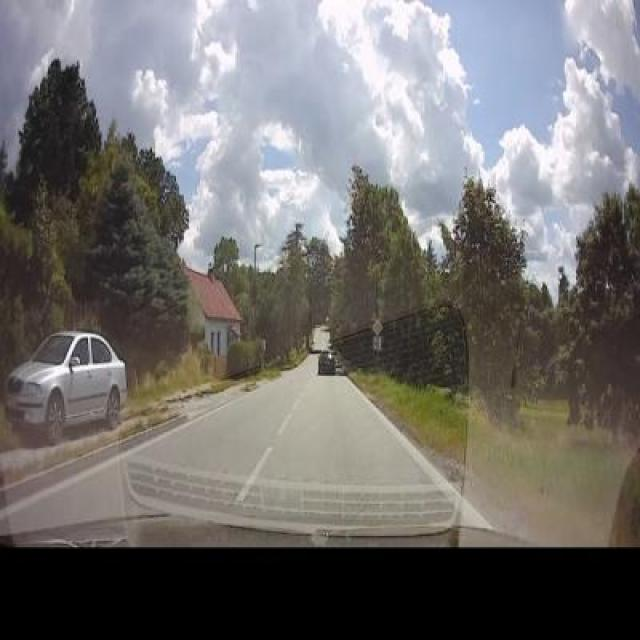clear-road: (140, 355, 430, 487)
